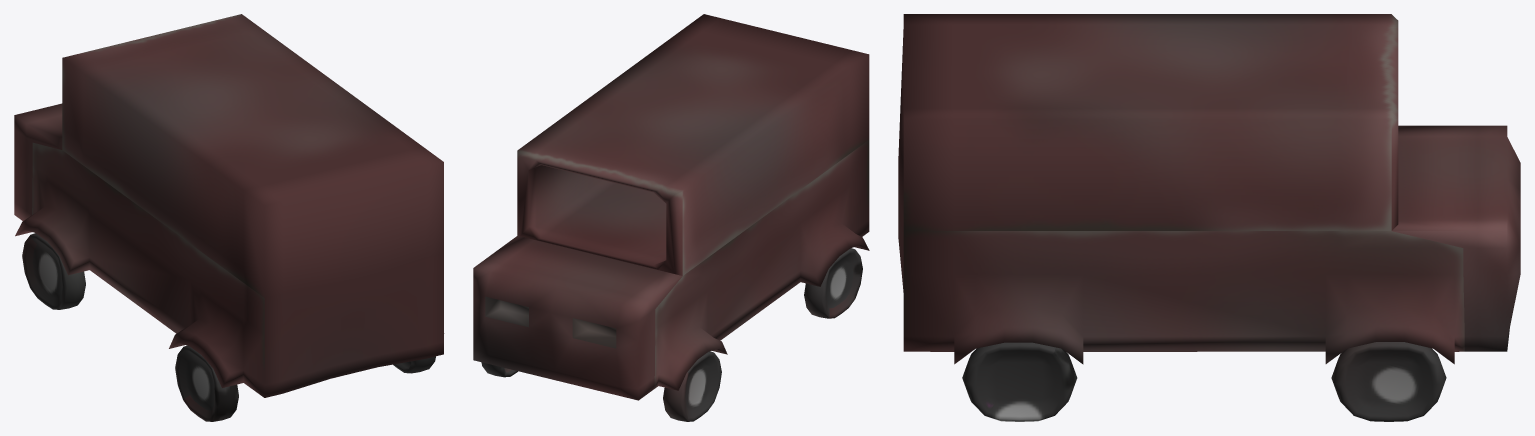
Rendered from Carro normal.FBX.
3 views of the same model, side by side, from view 1: azimuth 30°, elevation 25°; view 2: azimuth 150°, elevation 25°; view 3: azimuth 270°, elevation 25° (orthographic). The views are drawn at different scales.
Visible parts, largest first — view 1: carrito; view 2: carrito; view 3: carrito.
Boxes of the visible parts, x1=… form: carrito: x1=14, y1=14, x2=444, y2=421; carrito: x1=473, y1=14, x2=869, y2=421; carrito: x1=898, y1=14, x2=1520, y2=421.
Size of the model in its own units: 247 by 257 by 496.
